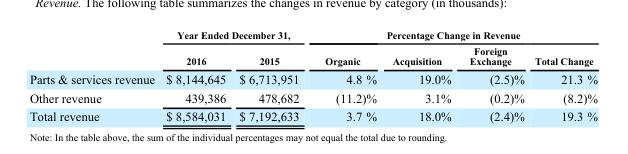table: (28, 28, 597, 123)
table column: (28, 28, 159, 123), (231, 28, 311, 123), (383, 28, 459, 123), (159, 28, 231, 123), (311, 28, 383, 123), (459, 28, 528, 123), (528, 28, 597, 123)
table column header: (28, 28, 597, 68)
table row: (28, 42, 597, 68), (28, 68, 597, 87), (28, 87, 597, 106), (28, 106, 597, 123), (28, 28, 597, 42)
table spanning cell: (311, 28, 597, 42), (159, 28, 311, 42)
